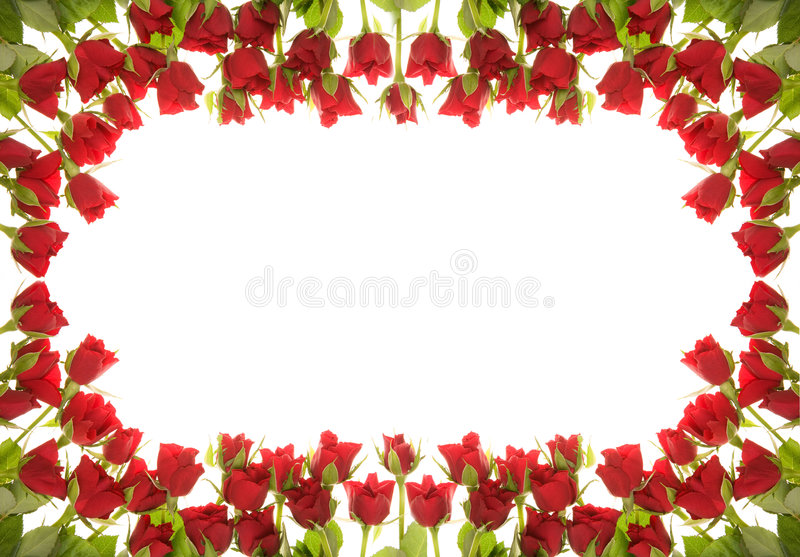RedRose: (684, 93, 769, 180), (334, 463, 404, 543), (440, 428, 525, 492), (59, 394, 135, 465), (68, 167, 139, 241), (12, 206, 72, 289), (56, 36, 140, 92), (171, 2, 264, 51), (173, 496, 247, 557), (153, 55, 215, 127), (14, 58, 75, 131), (528, 41, 590, 110), (153, 435, 216, 498), (338, 34, 405, 91), (12, 287, 81, 334), (292, 19, 346, 79), (414, 18, 462, 83)
